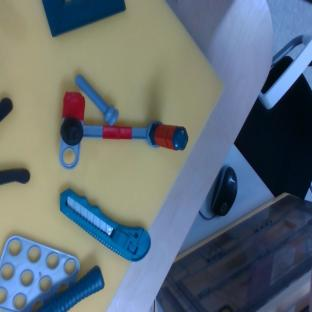pass: (59, 91, 190, 175)
